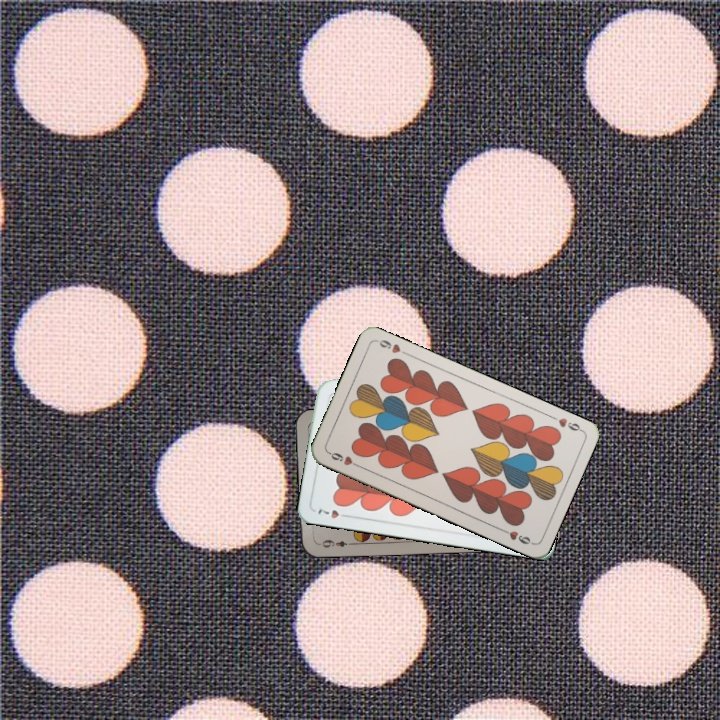E9: (315, 536, 355, 550)
H7: (314, 505, 352, 521)
H9: (546, 411, 584, 434), (324, 448, 363, 470)
